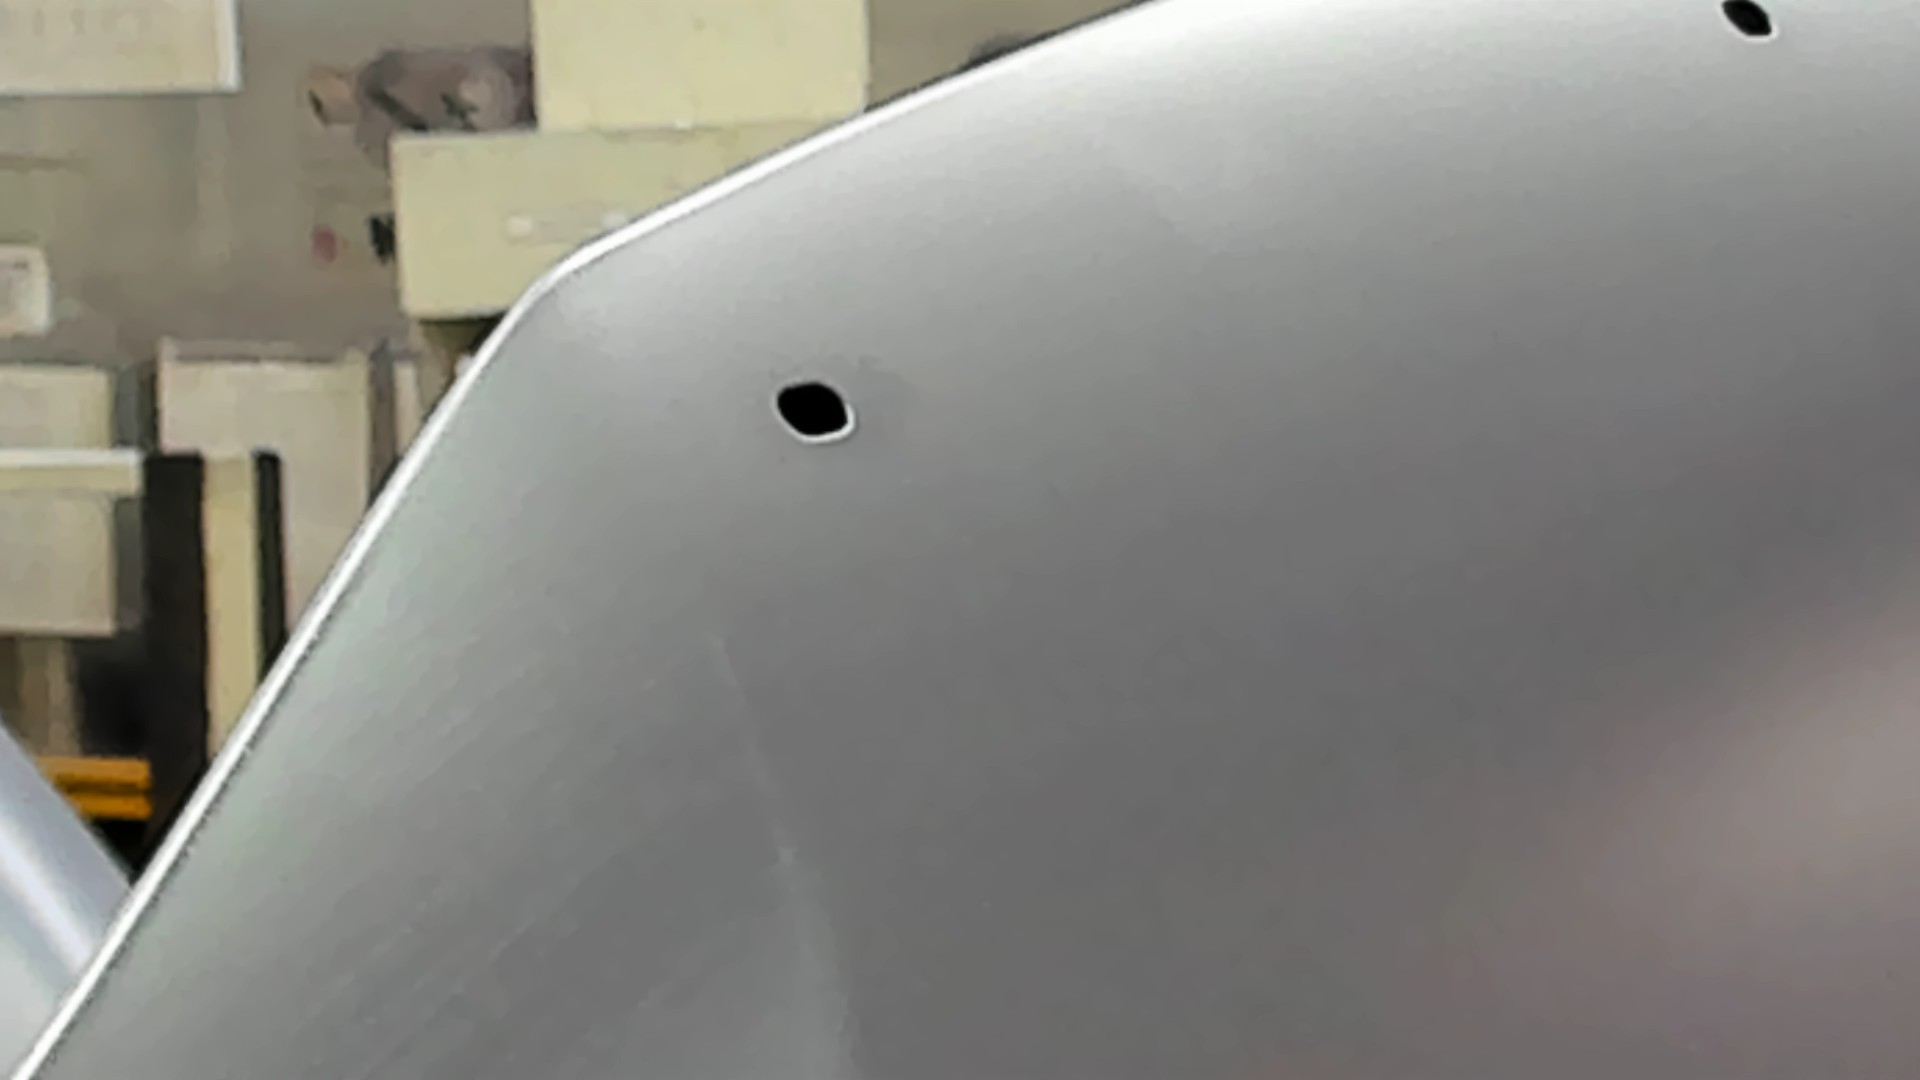amorfo: (770, 375, 857, 444), (1716, 1, 1778, 45)
